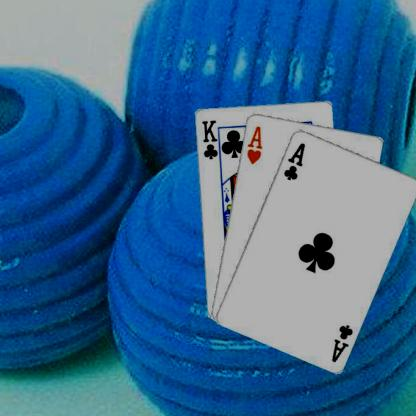AC: (329, 321, 354, 363), (281, 140, 306, 181)
AH: (244, 124, 263, 166)
KC: (199, 118, 222, 163)
